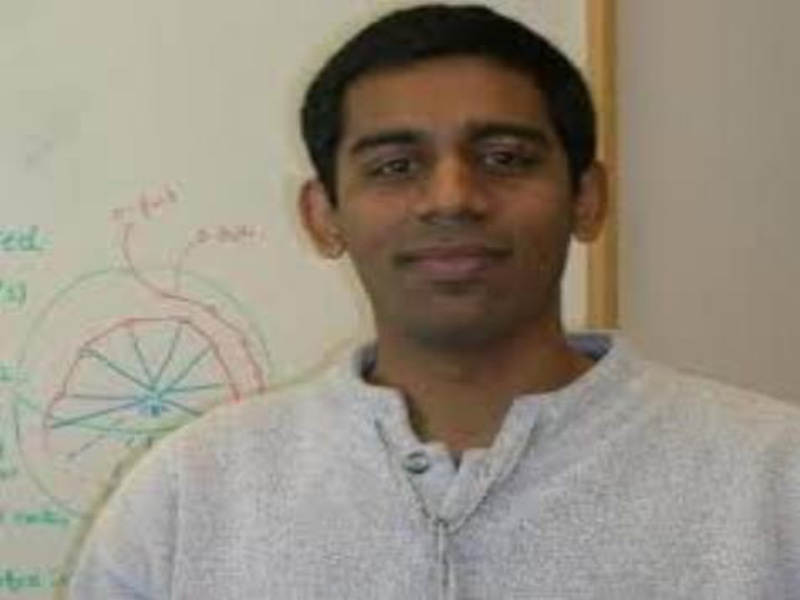TsisyArotava: (296, 9, 631, 373)
